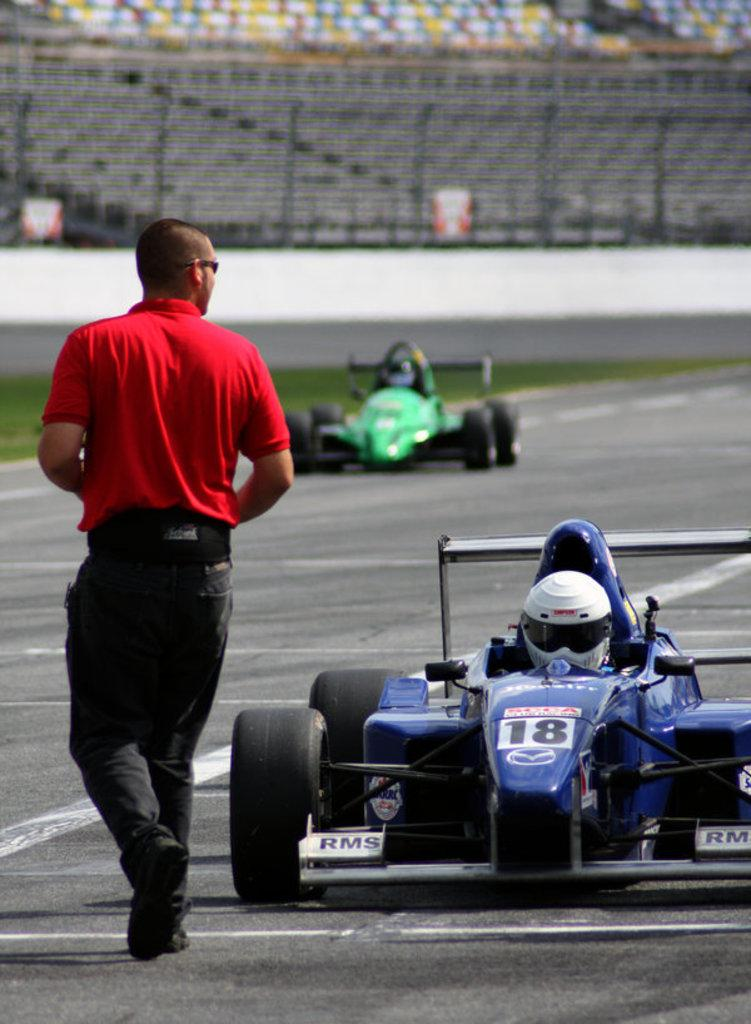helmet: (521, 570, 612, 676), (387, 358, 414, 386)
nohelmet: (134, 217, 219, 321)
